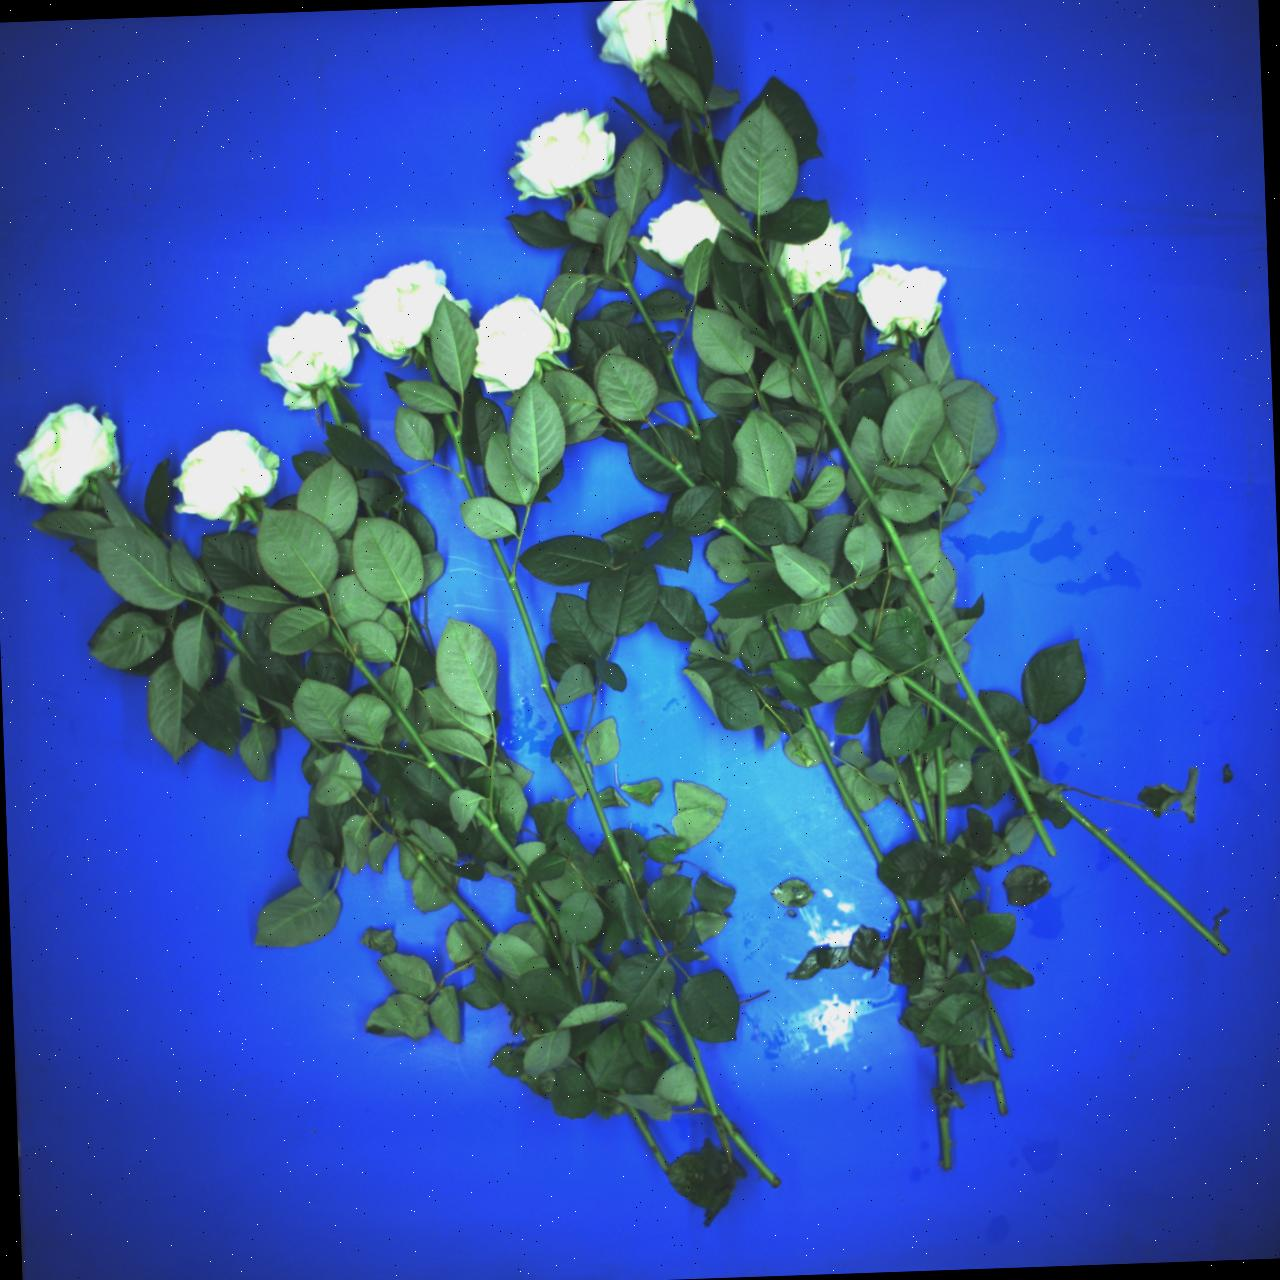Stem: (876, 510, 1060, 858), (485, 535, 638, 899), (1006, 754, 1232, 956), (761, 263, 876, 502), (322, 618, 462, 797), (380, 811, 497, 942), (798, 707, 885, 865), (667, 992, 733, 1158), (896, 669, 1002, 755), (607, 415, 696, 489), (710, 1105, 782, 1187), (471, 803, 532, 883), (686, 103, 731, 206), (612, 257, 662, 346), (523, 892, 573, 975), (202, 602, 261, 668), (886, 754, 927, 844), (713, 511, 774, 568), (624, 1099, 669, 1175), (443, 411, 477, 501), (907, 750, 938, 845), (278, 706, 333, 757), (893, 891, 930, 961), (980, 987, 1013, 1058), (982, 1027, 1007, 1115), (811, 291, 839, 366), (639, 1016, 682, 1064), (576, 942, 615, 986), (660, 345, 688, 397), (400, 602, 428, 655), (530, 881, 564, 922), (934, 745, 948, 844), (130, 513, 168, 550), (763, 612, 790, 661), (681, 400, 704, 443), (322, 384, 343, 427), (421, 341, 440, 386), (939, 1105, 949, 1169), (945, 890, 964, 925), (640, 922, 659, 958), (240, 501, 264, 529), (847, 629, 873, 654), (937, 908, 947, 967), (579, 188, 598, 215), (966, 942, 980, 972), (309, 593, 327, 617), (789, 474, 805, 497), (747, 366, 761, 393), (938, 1042, 946, 1087), (757, 393, 771, 417), (358, 783, 375, 802), (86, 476, 102, 496), (872, 703, 885, 728), (900, 331, 911, 360), (694, 1082, 706, 1105), (362, 498, 375, 519), (538, 356, 553, 372), (806, 508, 817, 525), (933, 676, 940, 699), (932, 707, 940, 724), (618, 1088, 627, 1094)
flower: (0, 388, 137, 529), (340, 241, 477, 376), (493, 94, 632, 216), (448, 279, 577, 406), (247, 295, 367, 424), (161, 413, 291, 531), (633, 188, 727, 278), (770, 217, 865, 301), (855, 261, 946, 343)
